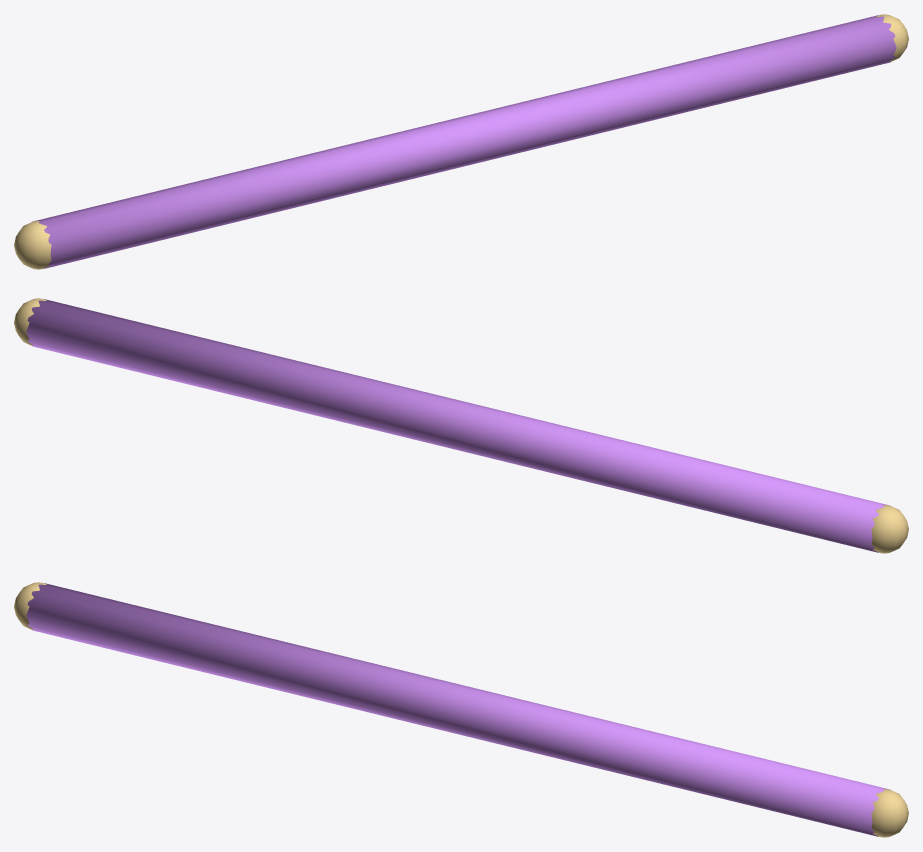
File: long-pin-BoCUJsag.glb
The picture shows the model from 3 angles, top to bottom: view 1: azimuth 30°, elevation 25°; view 2: azimuth 150°, elevation 25°; view 3: azimuth 330°, elevation 25°; orthographic projection.
Visible parts, largest first — view 1: R3D_long-pin_Body_0, R3D_long-pin_Tip_0, R3D_long-pin_Tip_1; view 2: R3D_long-pin_Body_0, R3D_long-pin_Tip_0, R3D_long-pin_Tip_1; view 3: R3D_long-pin_Body_0, R3D_long-pin_Tip_1, R3D_long-pin_Tip_0.
Part boxes in pixels (box(x1,y1,x2,y2)): R3D_long-pin_Body_0: box(32, 15, 896, 268); R3D_long-pin_Tip_0: box(14, 221, 51, 269); R3D_long-pin_Tip_1: box(876, 14, 908, 61); R3D_long-pin_Body_0: box(26, 299, 890, 552); R3D_long-pin_Tip_0: box(871, 505, 908, 553); R3D_long-pin_Tip_1: box(14, 298, 46, 345); R3D_long-pin_Body_0: box(26, 583, 890, 836); R3D_long-pin_Tip_1: box(871, 789, 908, 837); R3D_long-pin_Tip_0: box(14, 582, 46, 629).
Bounding box in the file's own units: 3.78 × 0.18 × 0.18.
